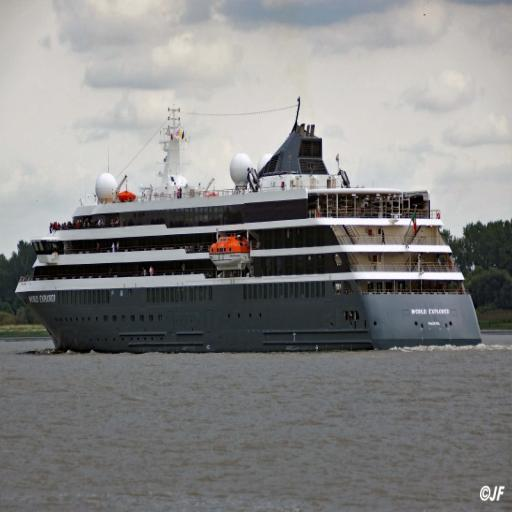cruises: (14, 96, 485, 358)
